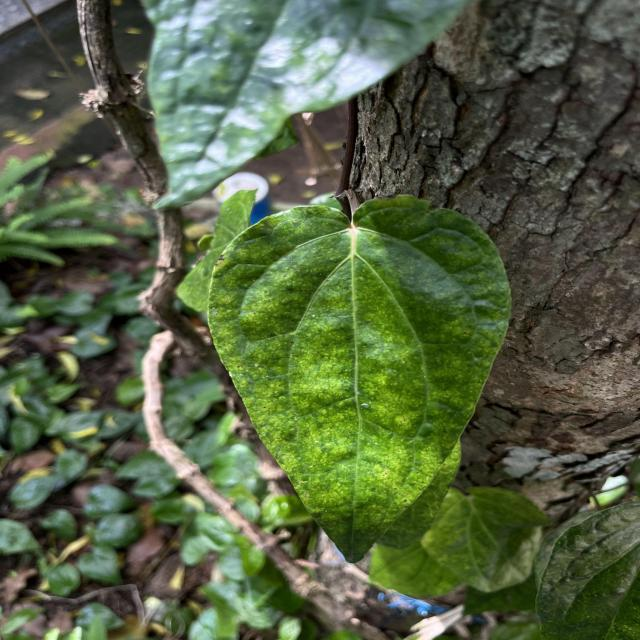Piper betle: (202, 191, 514, 565)
